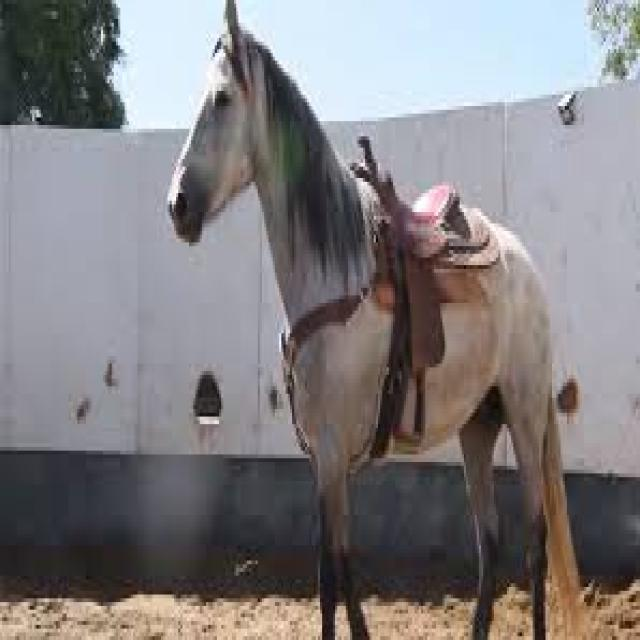Horse: (160, 19, 572, 640)
